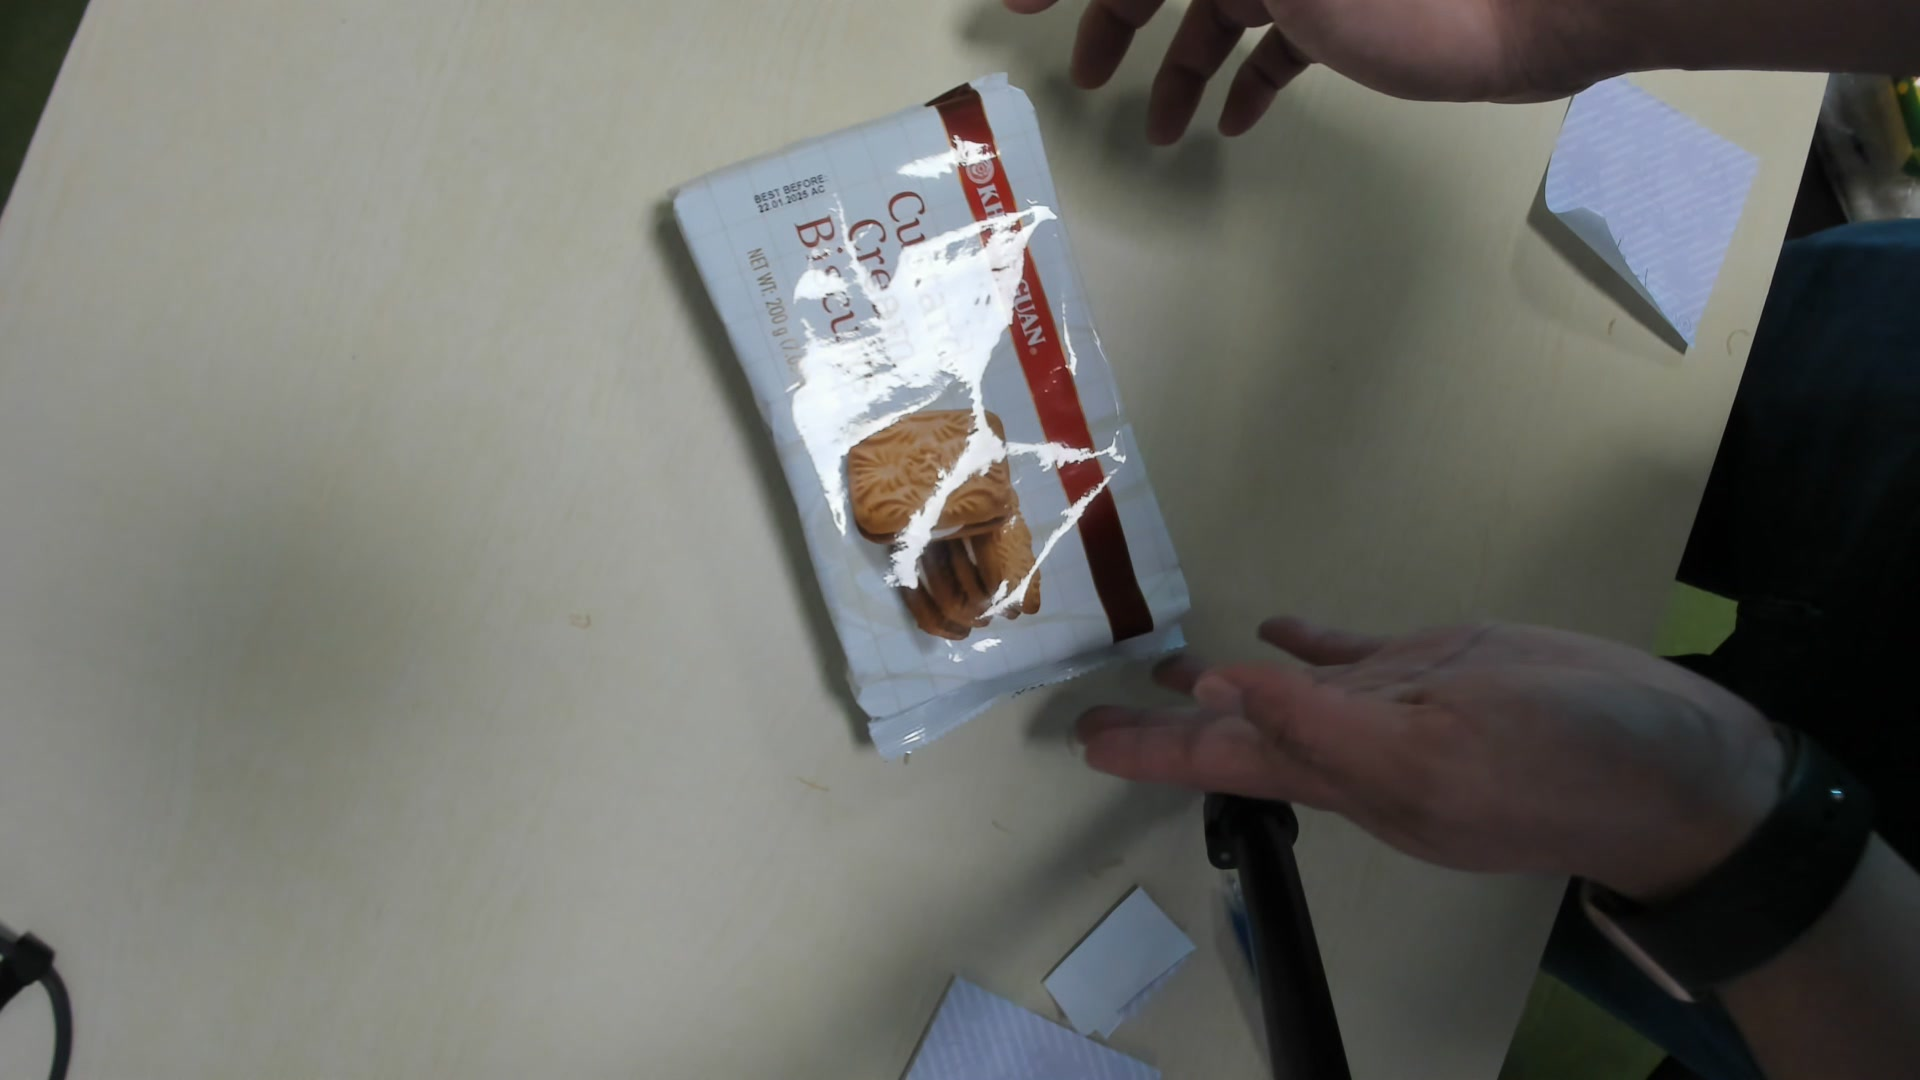BiscuitsCrackersCookies_200-299g_Halal_NonHealthy: (671, 87, 1200, 748)
